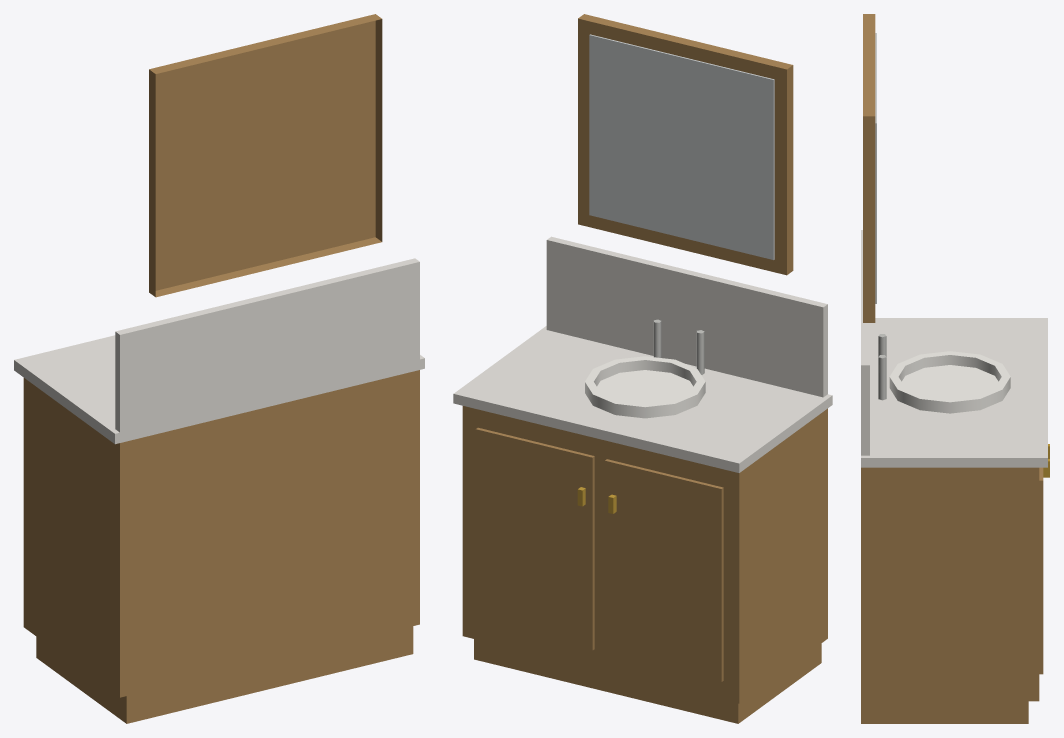
Rendered from parametric-washstand-2nd-pub.glb.
3 renders of one model, left to right at view 1: azimuth 30°, elevation 25°; view 2: azimuth 150°, elevation 25°; view 3: azimuth 270°, elevation 25°, orthographic. The views are drawn at different scales.
Visible parts, largest first — view 1: parametric-washstand-2nd-pub; view 2: parametric-washstand-2nd-pub; view 3: parametric-washstand-2nd-pub.
Boxes of the visible parts, <box> form: parametric-washstand-2nd-pub: <box>14,14,424,723</box>; parametric-washstand-2nd-pub: <box>453,14,832,723</box>; parametric-washstand-2nd-pub: <box>861,14,1049,723</box>.
Size of the model in its own units: 0.93 by 1.84 by 0.53.
